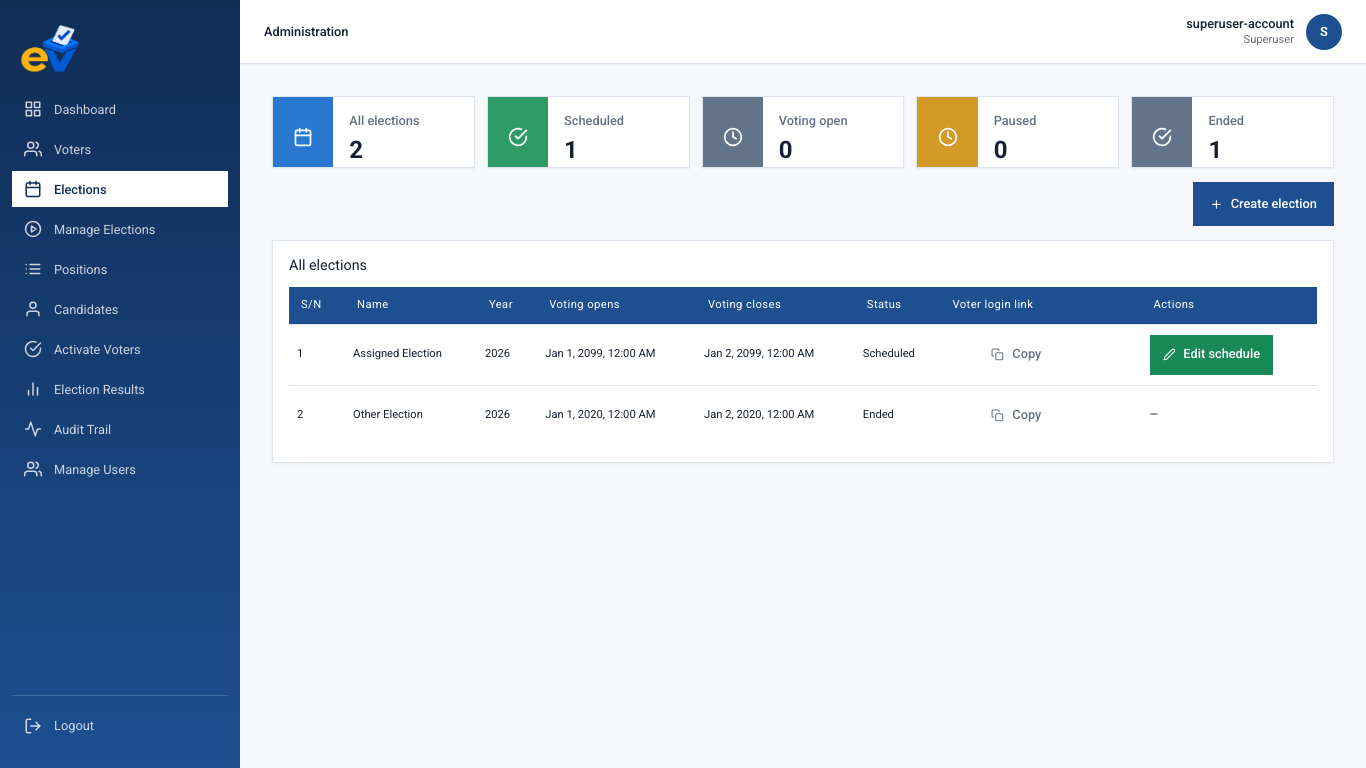
scheduled election schedule editing › rejects equal schedule times before sending an update
The width and height of the screenshot is (1366, 768).
Click the button with aria-label "Edit schedule for Assigned Election" at (1211, 355), box x1=1150 y1=335 x2=1273 y2=375
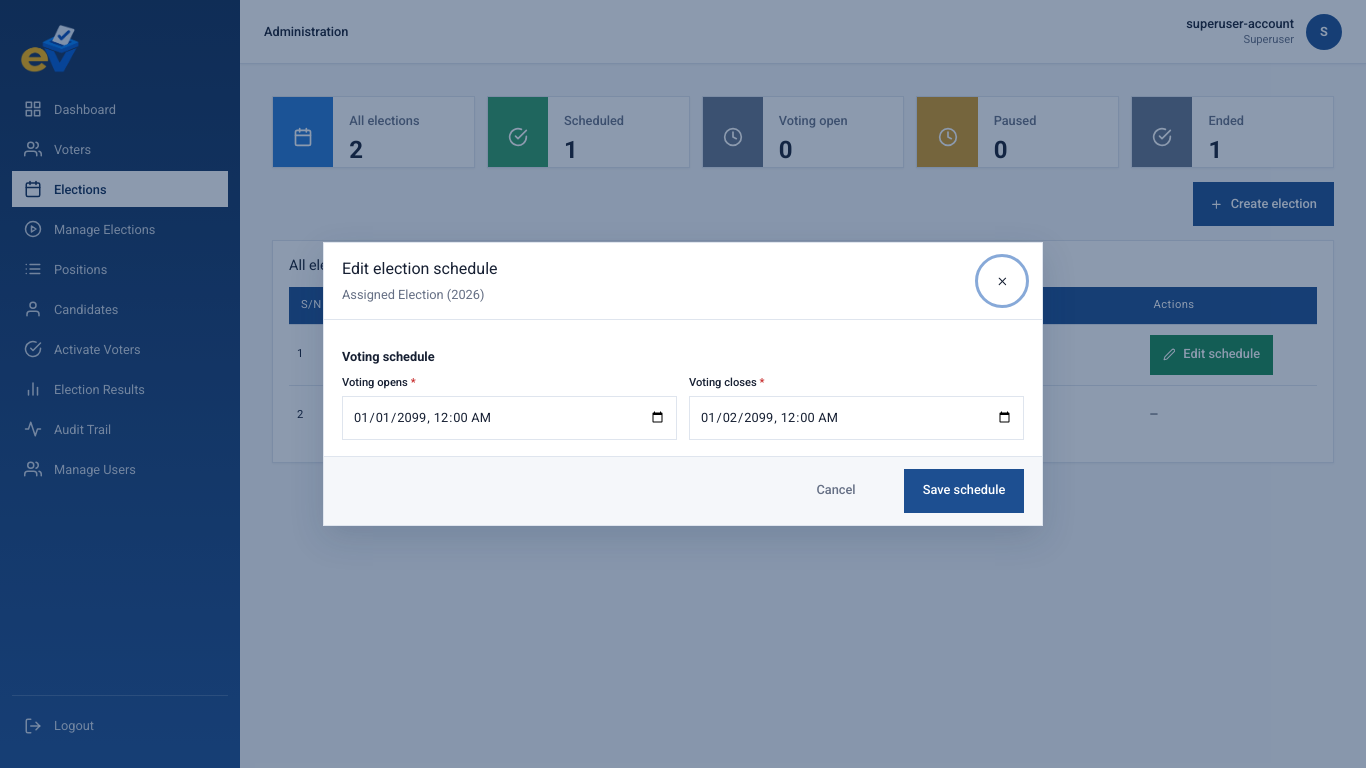
Replace the text in the field labelled "Voting opens *" with "2099-01-01T02:00" at (510, 418), box x1=342 y1=396 x2=677 y2=440
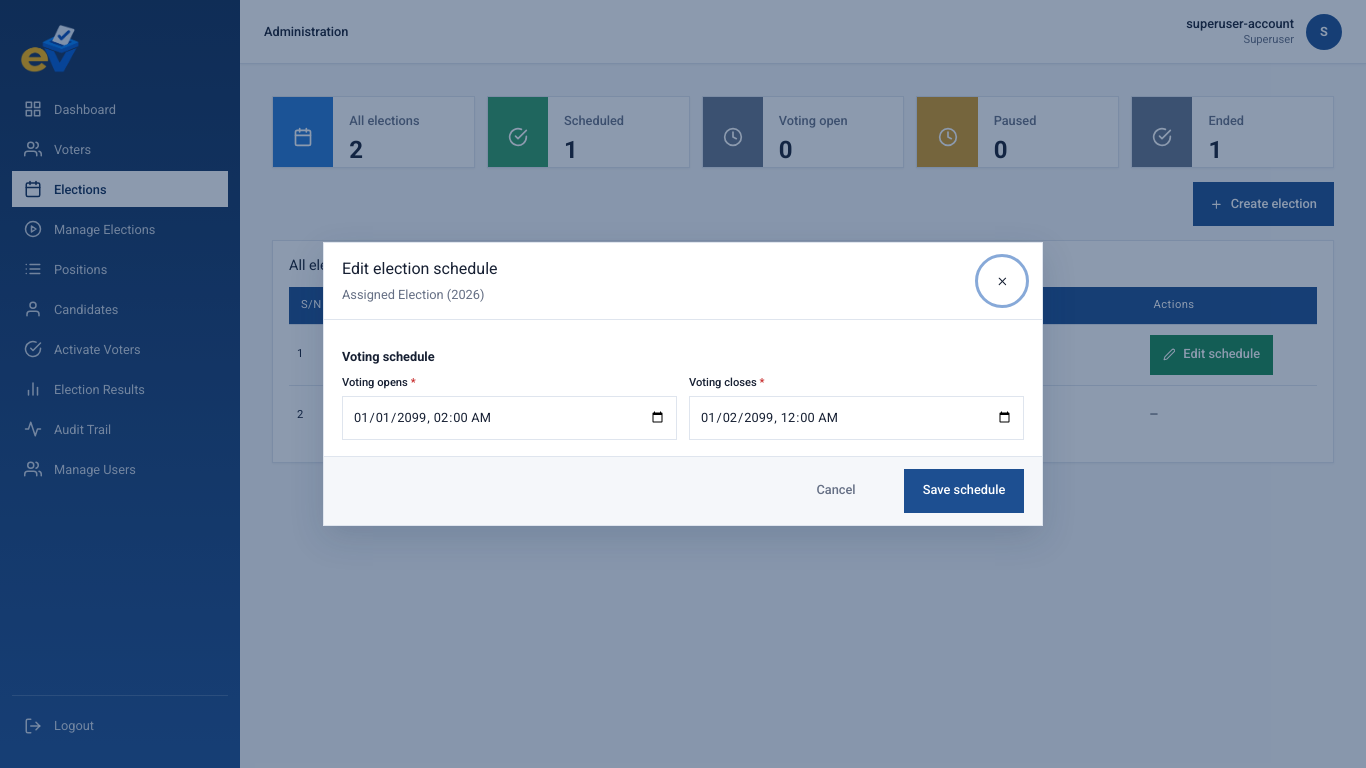
Replace the text in the field labelled "Voting closes *" with "2099-01-01T02:00" at (856, 418), box x1=689 y1=396 x2=1024 y2=440
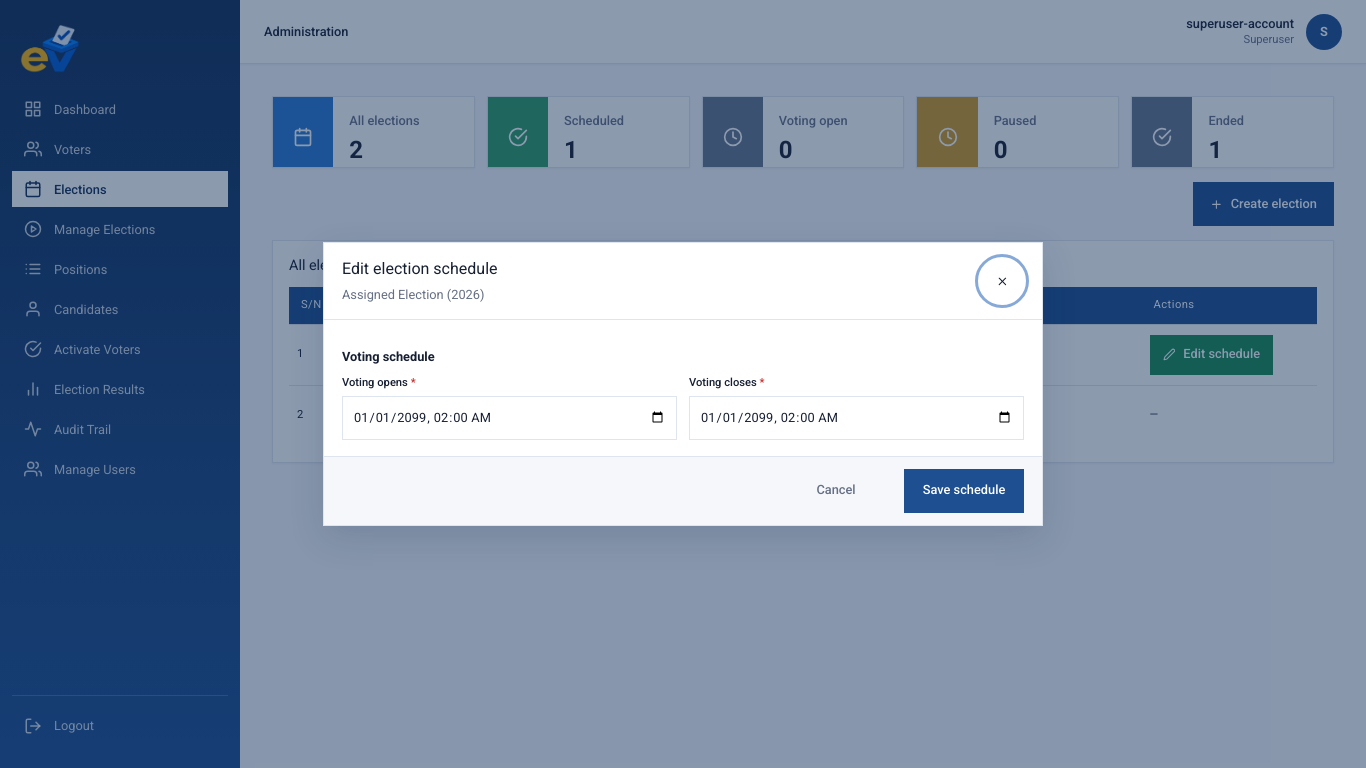
Submit the form "Save schedule", box x1=342 y1=338 x2=1024 y2=507
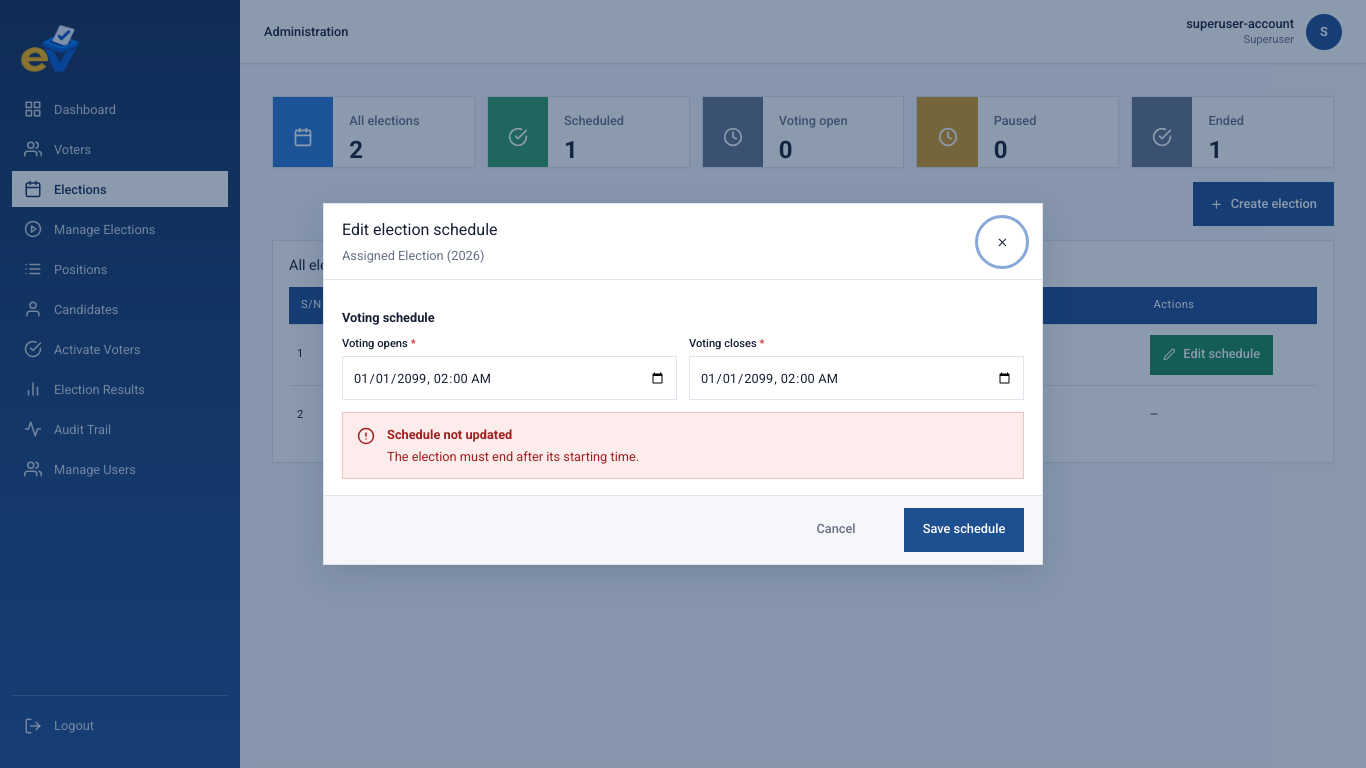
Expected: the text "The election must end after its starting time." is shown, x1=387 y1=449 x2=639 y2=464
